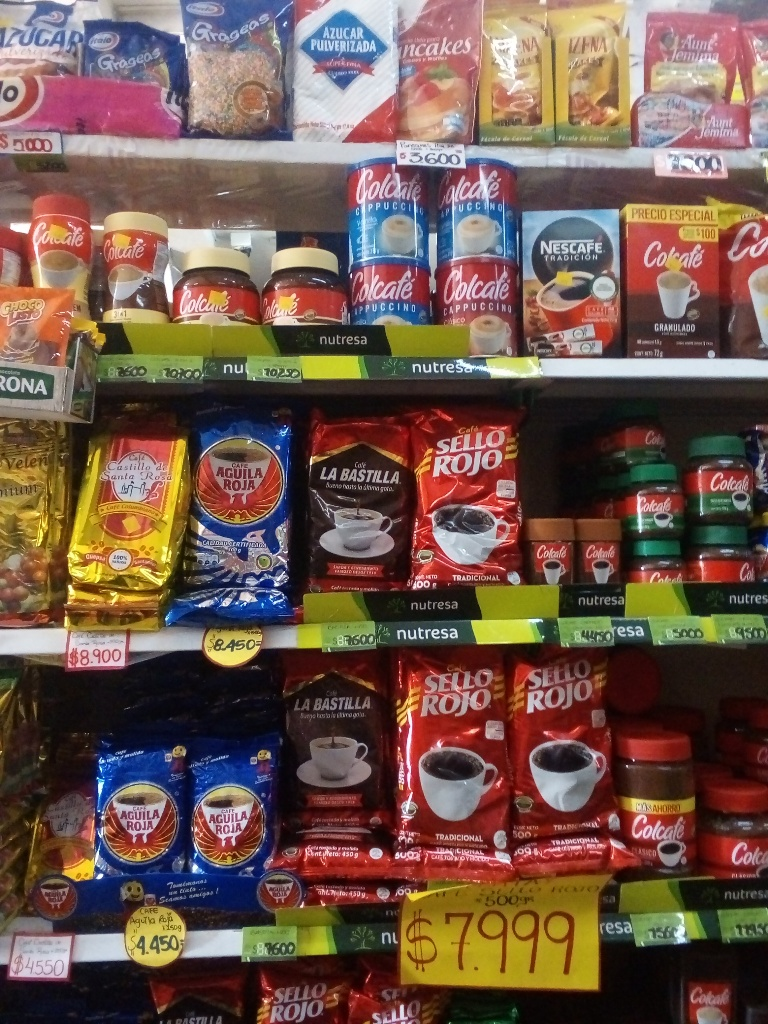COL0170103SOB02000: (5, 280, 75, 372)
